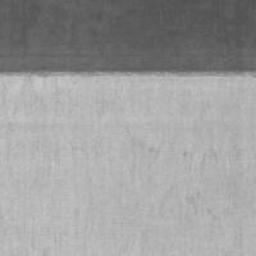Welding line: (0, 70, 256, 79)
